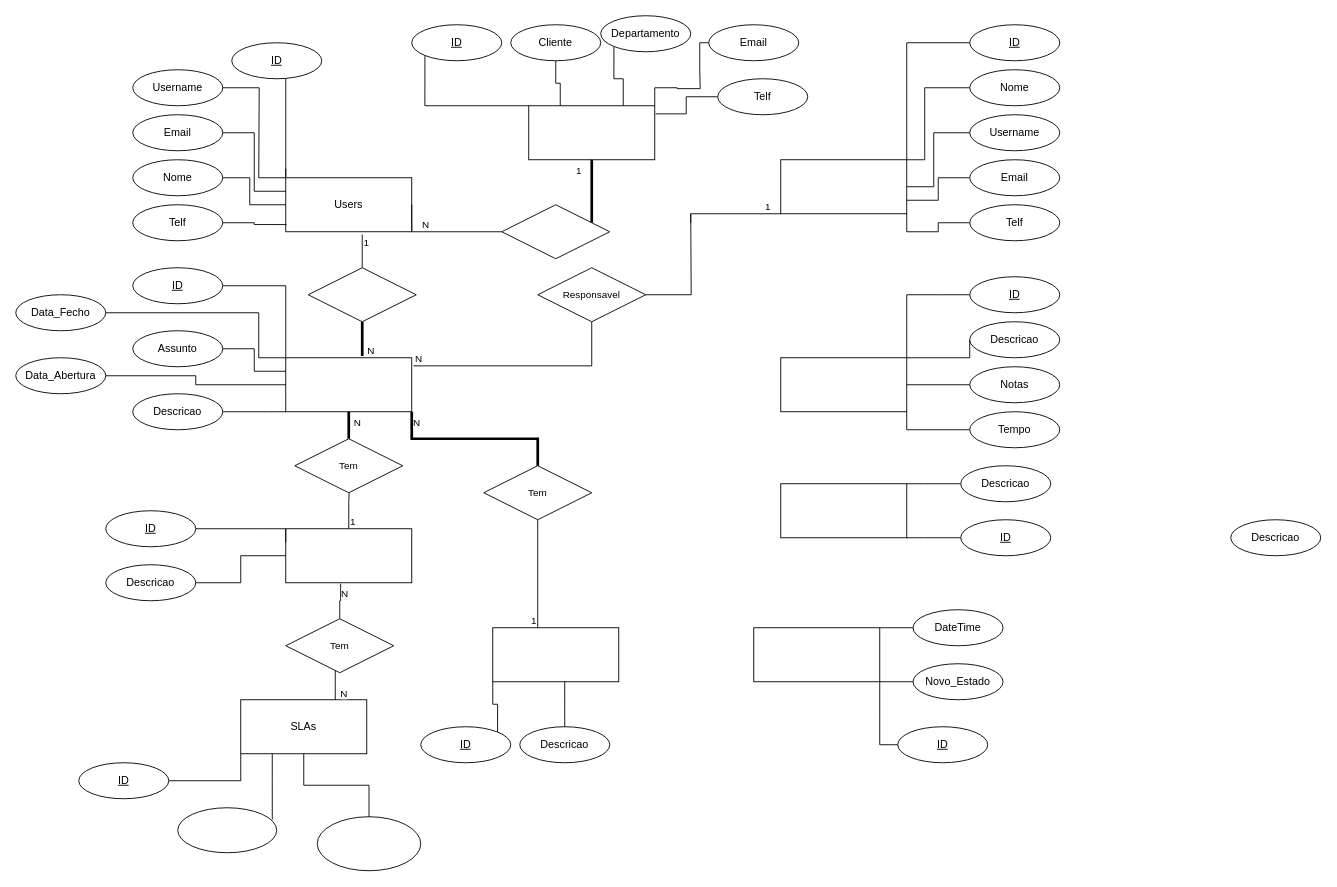
This 1337x887 diagram has some shape labels left out. The shapes that lost their labels are listed below. From the top down, each one's centre as x and y in pixels, then its label:
point (591, 132): Org_Units
point (843, 186): Techs
point (555, 231): Pertence
point (361, 294): Cria
point (348, 384): Tickets
point (843, 384): Ticket_Intervencao
point (843, 510): Ticket_Estados
point (348, 555): Ticket_Cat
point (555, 654): Ticket_Priority
point (816, 654): Ticket_Estado_Historico
point (227, 830): Tempo_Resolucao
point (368, 843): Tempo_Primeira _Resposta
